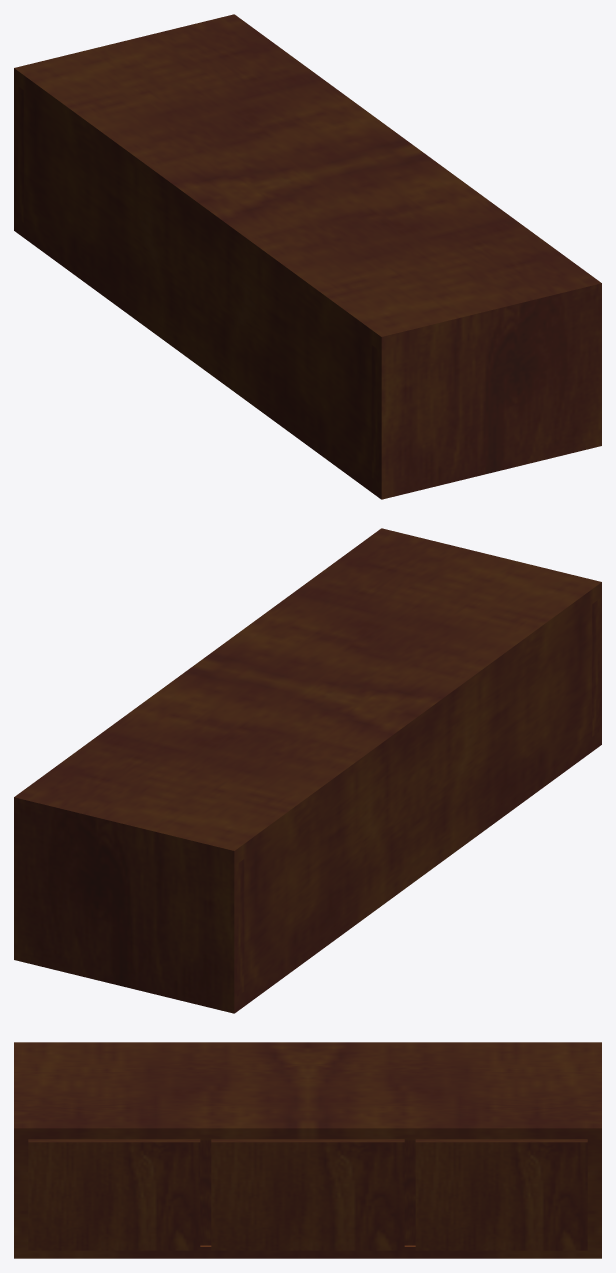
Rendered from tv storage textured.fbx.
The picture shows the model from 3 angles, top to bottom: view 1: azimuth 30°, elevation 25°; view 2: azimuth 150°, elevation 25°; view 3: azimuth 270°, elevation 25°; orthographic projection. The views are drawn at different scales.
Parts seen in each view (by area): view 1: Storage top, Storage back, Storage left, Storage bottom, Storage right; view 2: Storage top, Storage back, Storage right, Storage bottom, Storage left; view 3: Storage top, Cube.003, Cube.002, Cube.004, Storage bottom, Storage left, Storage right, Side Wall, Side Wall.001.
Part boxes in pixels (x1=…): Storage top: x1=14, y1=14, x2=601, y2=351; Storage back: x1=24, y1=90, x2=371, y2=477; Storage left: x1=371, y1=298, x2=601, y2=484; Storage bottom: x1=14, y1=216, x2=601, y2=499; Storage right: x1=14, y1=83, x2=23, y2=222; Storage top: x1=14, y1=528, x2=601, y2=865; Storage back: x1=244, y1=604, x2=591, y2=991; Storage right: x1=14, y1=812, x2=244, y2=998; Storage bottom: x1=14, y1=730, x2=601, y2=1013; Storage left: x1=592, y1=597, x2=601, y2=736; Storage top: x1=14, y1=1042, x2=601, y2=1140; Cube.003: x1=211, y1=1139, x2=404, y2=1250; Cube.002: x1=28, y1=1139, x2=200, y2=1250; Cube.004: x1=415, y1=1139, x2=587, y2=1250; Storage bottom: x1=14, y1=1245, x2=601, y2=1258; Storage left: x1=14, y1=1140, x2=28, y2=1246; Storage right: x1=587, y1=1140, x2=601, y2=1246; Side Wall: x1=200, y1=1140, x2=211, y2=1245; Side Wall.001: x1=404, y1=1140, x2=415, y2=1245.
Size of the model in its own units: 2257 by 1539 by 6304.
